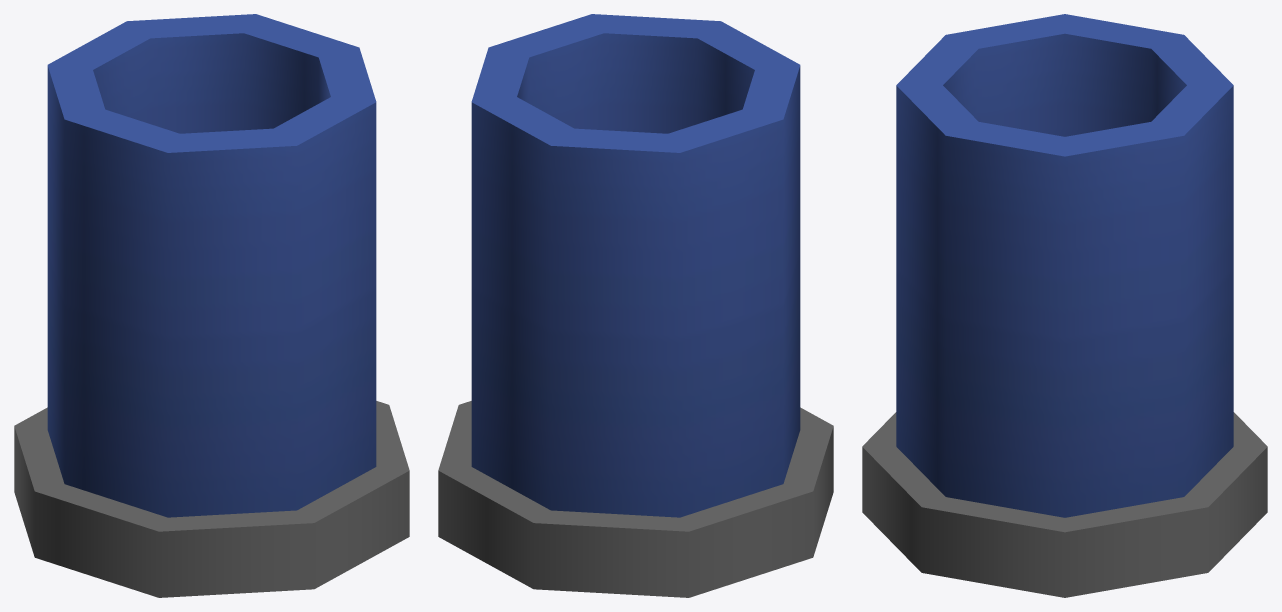
Rendered from Chimney_1_D_4.fbx.
3 renders of one model, left to right at view 1: azimuth 30°, elevation 25°; view 2: azimuth 150°, elevation 25°; view 3: azimuth 270°, elevation 25°, orthographic.
Visible parts, largest first — view 1: Chimney_1_D_4; view 2: Chimney_1_D_4; view 3: Chimney_1_D_4.
Part boxes in pixels (x1,y1,x2,y2): Chimney_1_D_4: [14, 14, 409, 597]; Chimney_1_D_4: [438, 14, 833, 597]; Chimney_1_D_4: [862, 14, 1267, 597].
Size of the model in its own units: 61.78 by 71.75 by 61.78.
